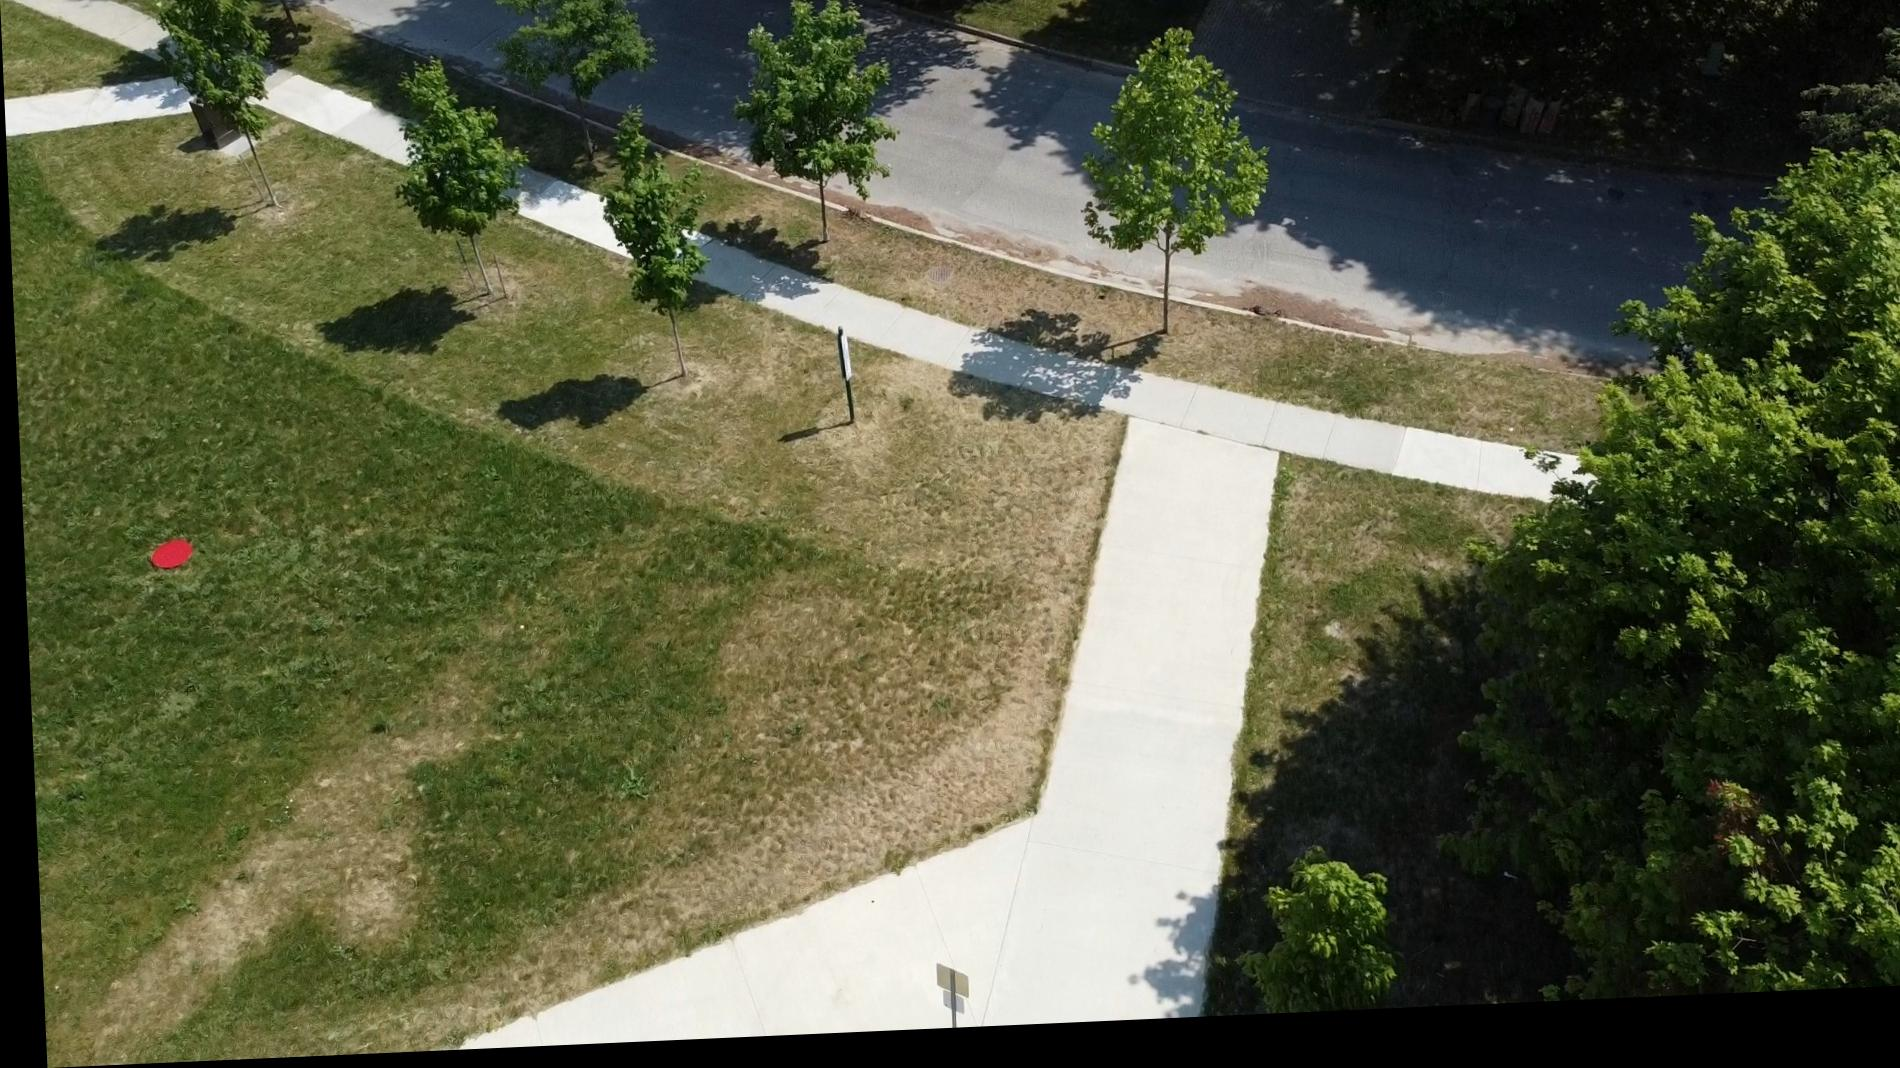Red: (145, 539, 189, 572)
